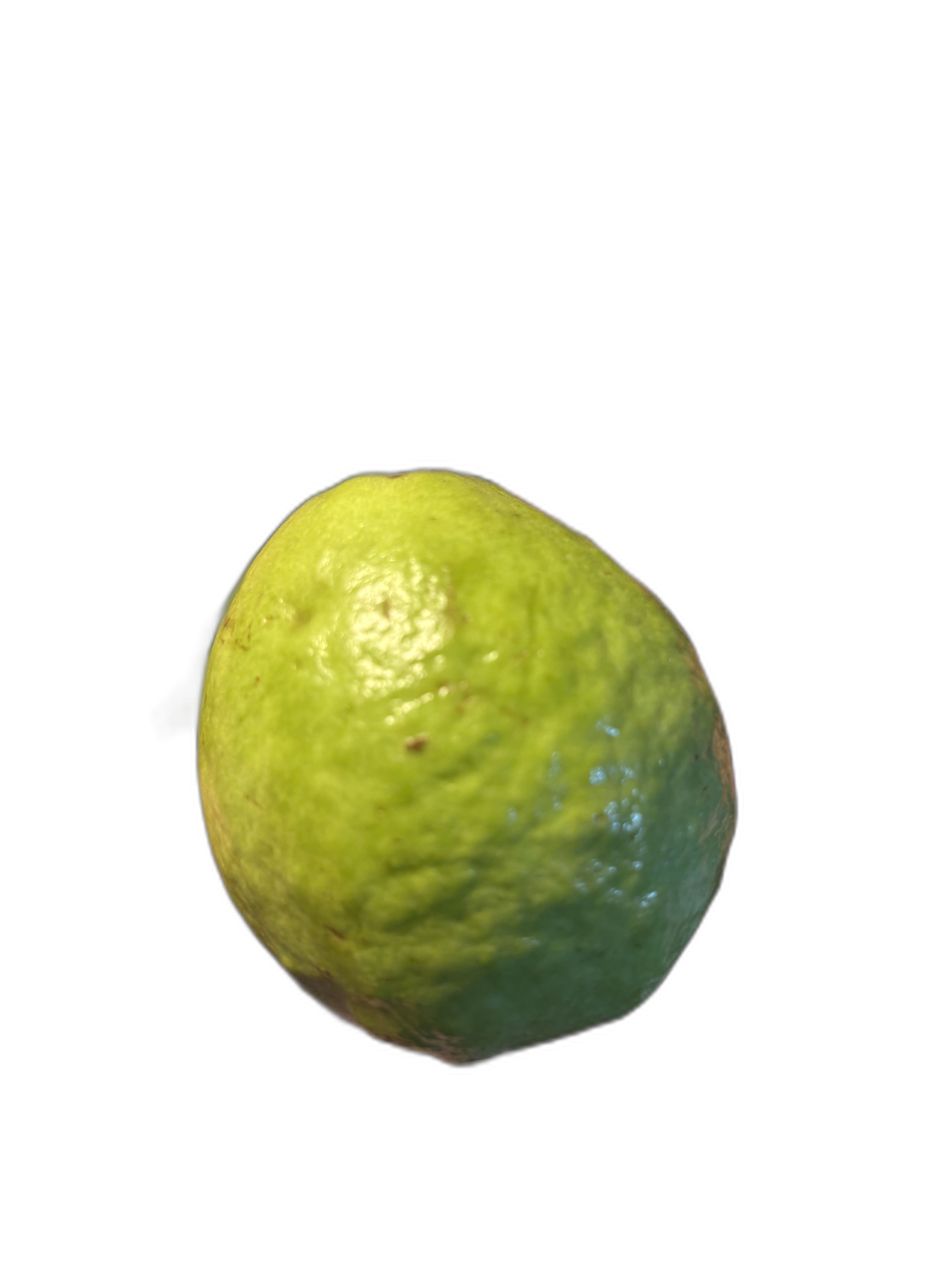guava: (68, 129, 837, 1100)
